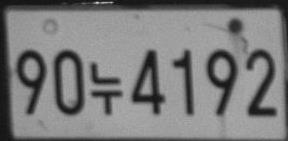0: (53, 49, 85, 114)
1: (169, 49, 203, 115)
2: (245, 48, 277, 116)
4: (132, 49, 165, 115)
9: (206, 48, 237, 116), (16, 49, 47, 114)
누: (90, 62, 123, 114)
